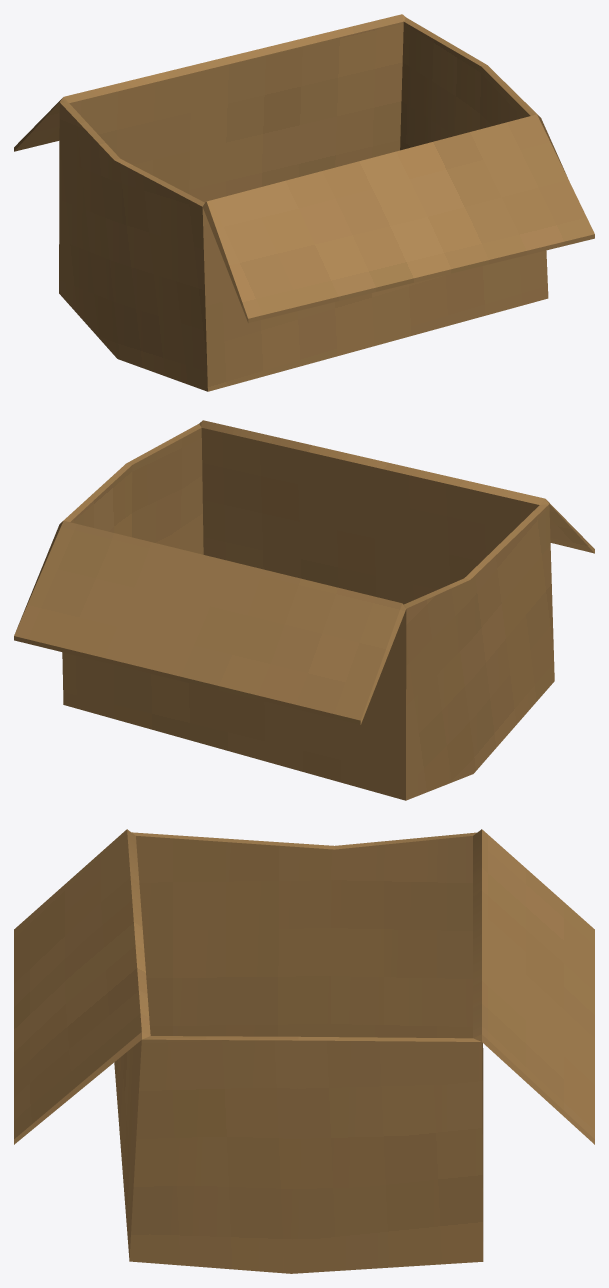
The model's file is MB_Open.fbx.
The picture shows the model from 3 angles, top to bottom: view 1: azimuth 30°, elevation 25°; view 2: azimuth 150°, elevation 25°; view 3: azimuth 270°, elevation 25°; orthographic projection. The views are drawn at different scales.
Visible parts, largest first — view 1: MovingBox_Open; view 2: MovingBox_Open; view 3: MovingBox_Open.
Boxes of the visible parts, x1,y1,x2,y2 form: MovingBox_Open: (14,14,594,391); MovingBox_Open: (14,420,594,800); MovingBox_Open: (14,829,594,1273).
Bounding box in the file's own units: 36.93 × 21.15 × 41.75.
Materials: 1 (1 with a texture image).
